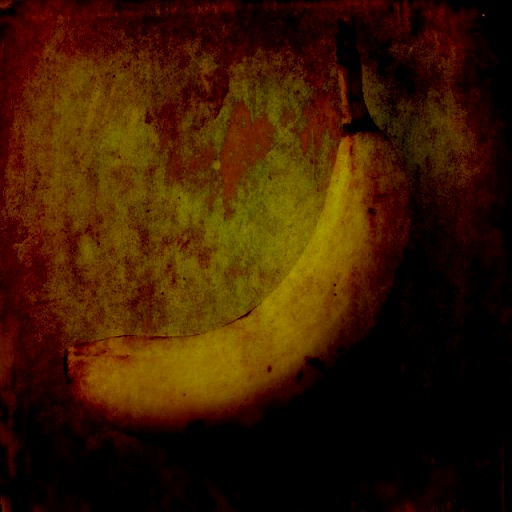fruit: (324, 137, 458, 451)
